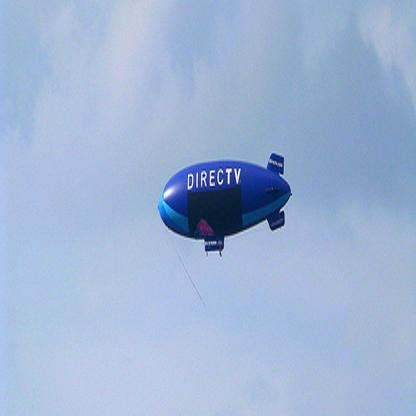Airship: (156, 151, 302, 257)
